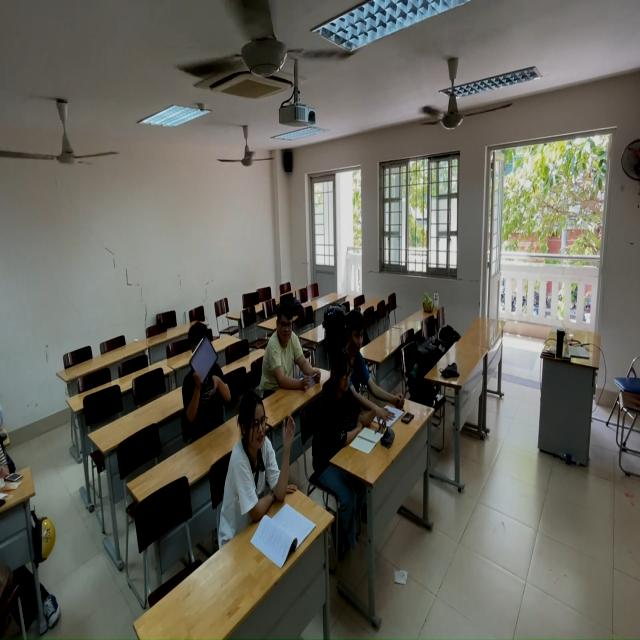raise_hand: (227, 384, 298, 527)
read: (337, 295, 408, 425), (319, 346, 382, 460), (185, 323, 244, 436), (260, 300, 322, 395)
